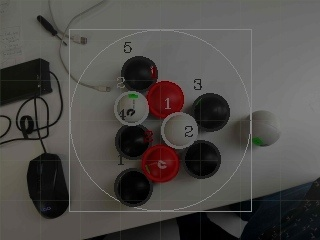Pelota blanca: (159, 111, 199, 148), (113, 91, 149, 126), (249, 109, 282, 147)
Pelota negra: (25, 151, 68, 220), (113, 167, 152, 208), (183, 139, 222, 180), (191, 93, 230, 132), (113, 123, 154, 159), (121, 55, 159, 90)
Pelota roja: (141, 143, 180, 183), (145, 79, 185, 118)
